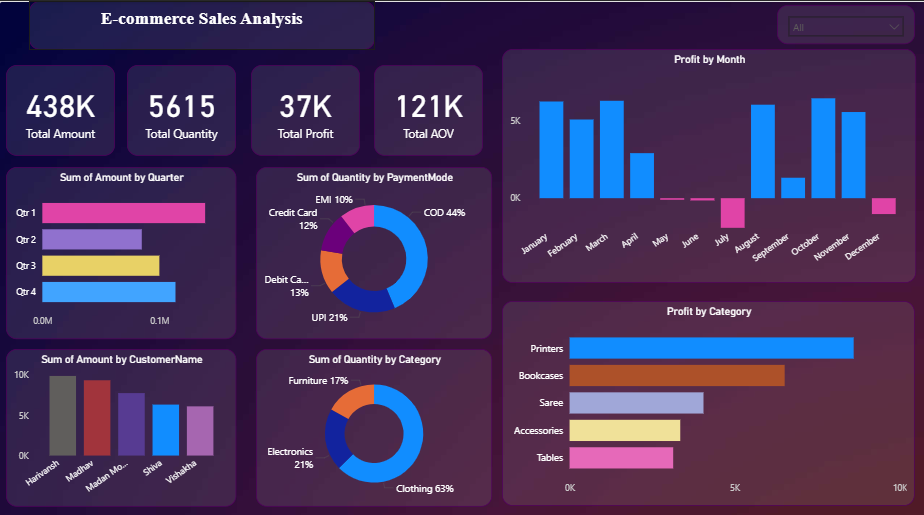

This screenshot's page, from the dashboard's own definition file:
{"tool":"powerbi","page":{"name":"Page 1","canvas":[1280,720],"ordinal":0},"visuals":[{"type":"textbox","box":[41.4,0,475.7,67.1],"z":0},{"type":"columnChart","title":"Profit by Month","fields":{"Category":["Orders.Order Date.Variation.Date Hierarchy.Month"],"Y":["Sum(Details.Profit)"]},"box":[691.7,66.7,570,321.7],"z":1000},{"type":"clusteredBarChart","title":"Profit by Category","fields":{"Y":["Sum(Details.Profit)"],"Category":["Details.Sub-Category"]},"box":[691.7,413.3,568.3,281.7],"z":2000},{"type":"donutChart","fields":{"Category":["Details.Category"],"Y":["Sum(Details.Quantity)"]},"box":[353.3,478.3,325,216.7],"z":3000},{"type":"card","fields":{"Values":["Sum(Details.Amount)"]},"box":[10,88.3,150,125],"z":4000},{"type":"card","fields":{"Values":["Sum(Details.Quantity)"]},"box":[176.7,88.3,150,125],"z":5000},{"type":"card","fields":{"Values":["Sum(Details.Profit)"]},"box":[346.7,88.3,150,125],"z":6000},{"type":"card","fields":{"Values":["Sum(Details.AOV)"]},"box":[516.7,88.3,150,125],"z":7000},{"type":"clusteredBarChart","title":"Sum of Amount by Quarter","fields":{"Category":["Orders.Order Date.Variation.Date Hierarchy.Quarter"],"Y":["Sum(Details.Amount)"]},"box":[10,228.3,316.7,236.7],"z":8000},{"type":"clusteredColumnChart","fields":{"Y":["Sum(Details.Amount)"],"Category":["Orders.CustomerName"]},"box":[10,478.3,316.7,216.7],"z":9000},{"type":"slicer","fields":{"Values":["Orders.State"]},"box":[1071.4,5.7,190,54.3],"z":10000},{"type":"donutChart","fields":{"Y":["Sum(Details.Quantity)"],"Category":["Details.PaymentMode"]},"box":[353.3,228.3,325,236.7],"z":11000}]}

Visuals, with their boxes in screenshot pixels (x1, y1, x2, y2), scaled from the page's 1280x720 canvas onto the 924x515 screenshot:
textbox: (left=30, top=0, right=373, bottom=48)
"Profit by Month" columnChart: (left=499, top=48, right=911, bottom=278)
"Profit by Category" clusteredBarChart: (left=499, top=296, right=910, bottom=497)
donutChart - Details.Category x Sum(Details.Quantity): (left=255, top=342, right=490, bottom=497)
card - Sum(Details.Amount): (left=7, top=63, right=116, bottom=153)
card - Sum(Details.Quantity): (left=128, top=63, right=236, bottom=153)
card - Sum(Details.Profit): (left=250, top=63, right=359, bottom=153)
card - Sum(Details.AOV): (left=373, top=63, right=481, bottom=153)
"Sum of Amount by Quarter" clusteredBarChart: (left=7, top=163, right=236, bottom=333)
clusteredColumnChart - Sum(Details.Amount) x Orders.CustomerName: (left=7, top=342, right=236, bottom=497)
slicer - Orders.State: (left=773, top=4, right=911, bottom=43)
donutChart - Sum(Details.Quantity) x Details.PaymentMode: (left=255, top=163, right=490, bottom=333)
